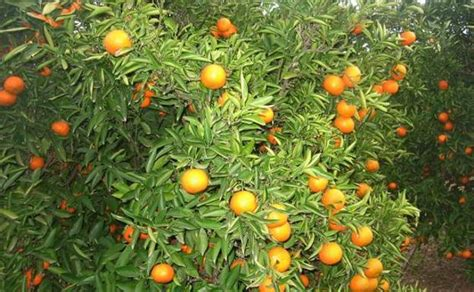orange: (194, 62, 230, 92), (176, 168, 212, 197), (228, 189, 257, 218), (102, 30, 132, 56), (318, 188, 349, 213), (264, 247, 292, 273), (320, 73, 345, 98), (318, 241, 344, 265), (150, 261, 175, 284), (352, 225, 374, 249), (333, 116, 357, 137), (380, 76, 401, 97), (397, 28, 418, 48)
